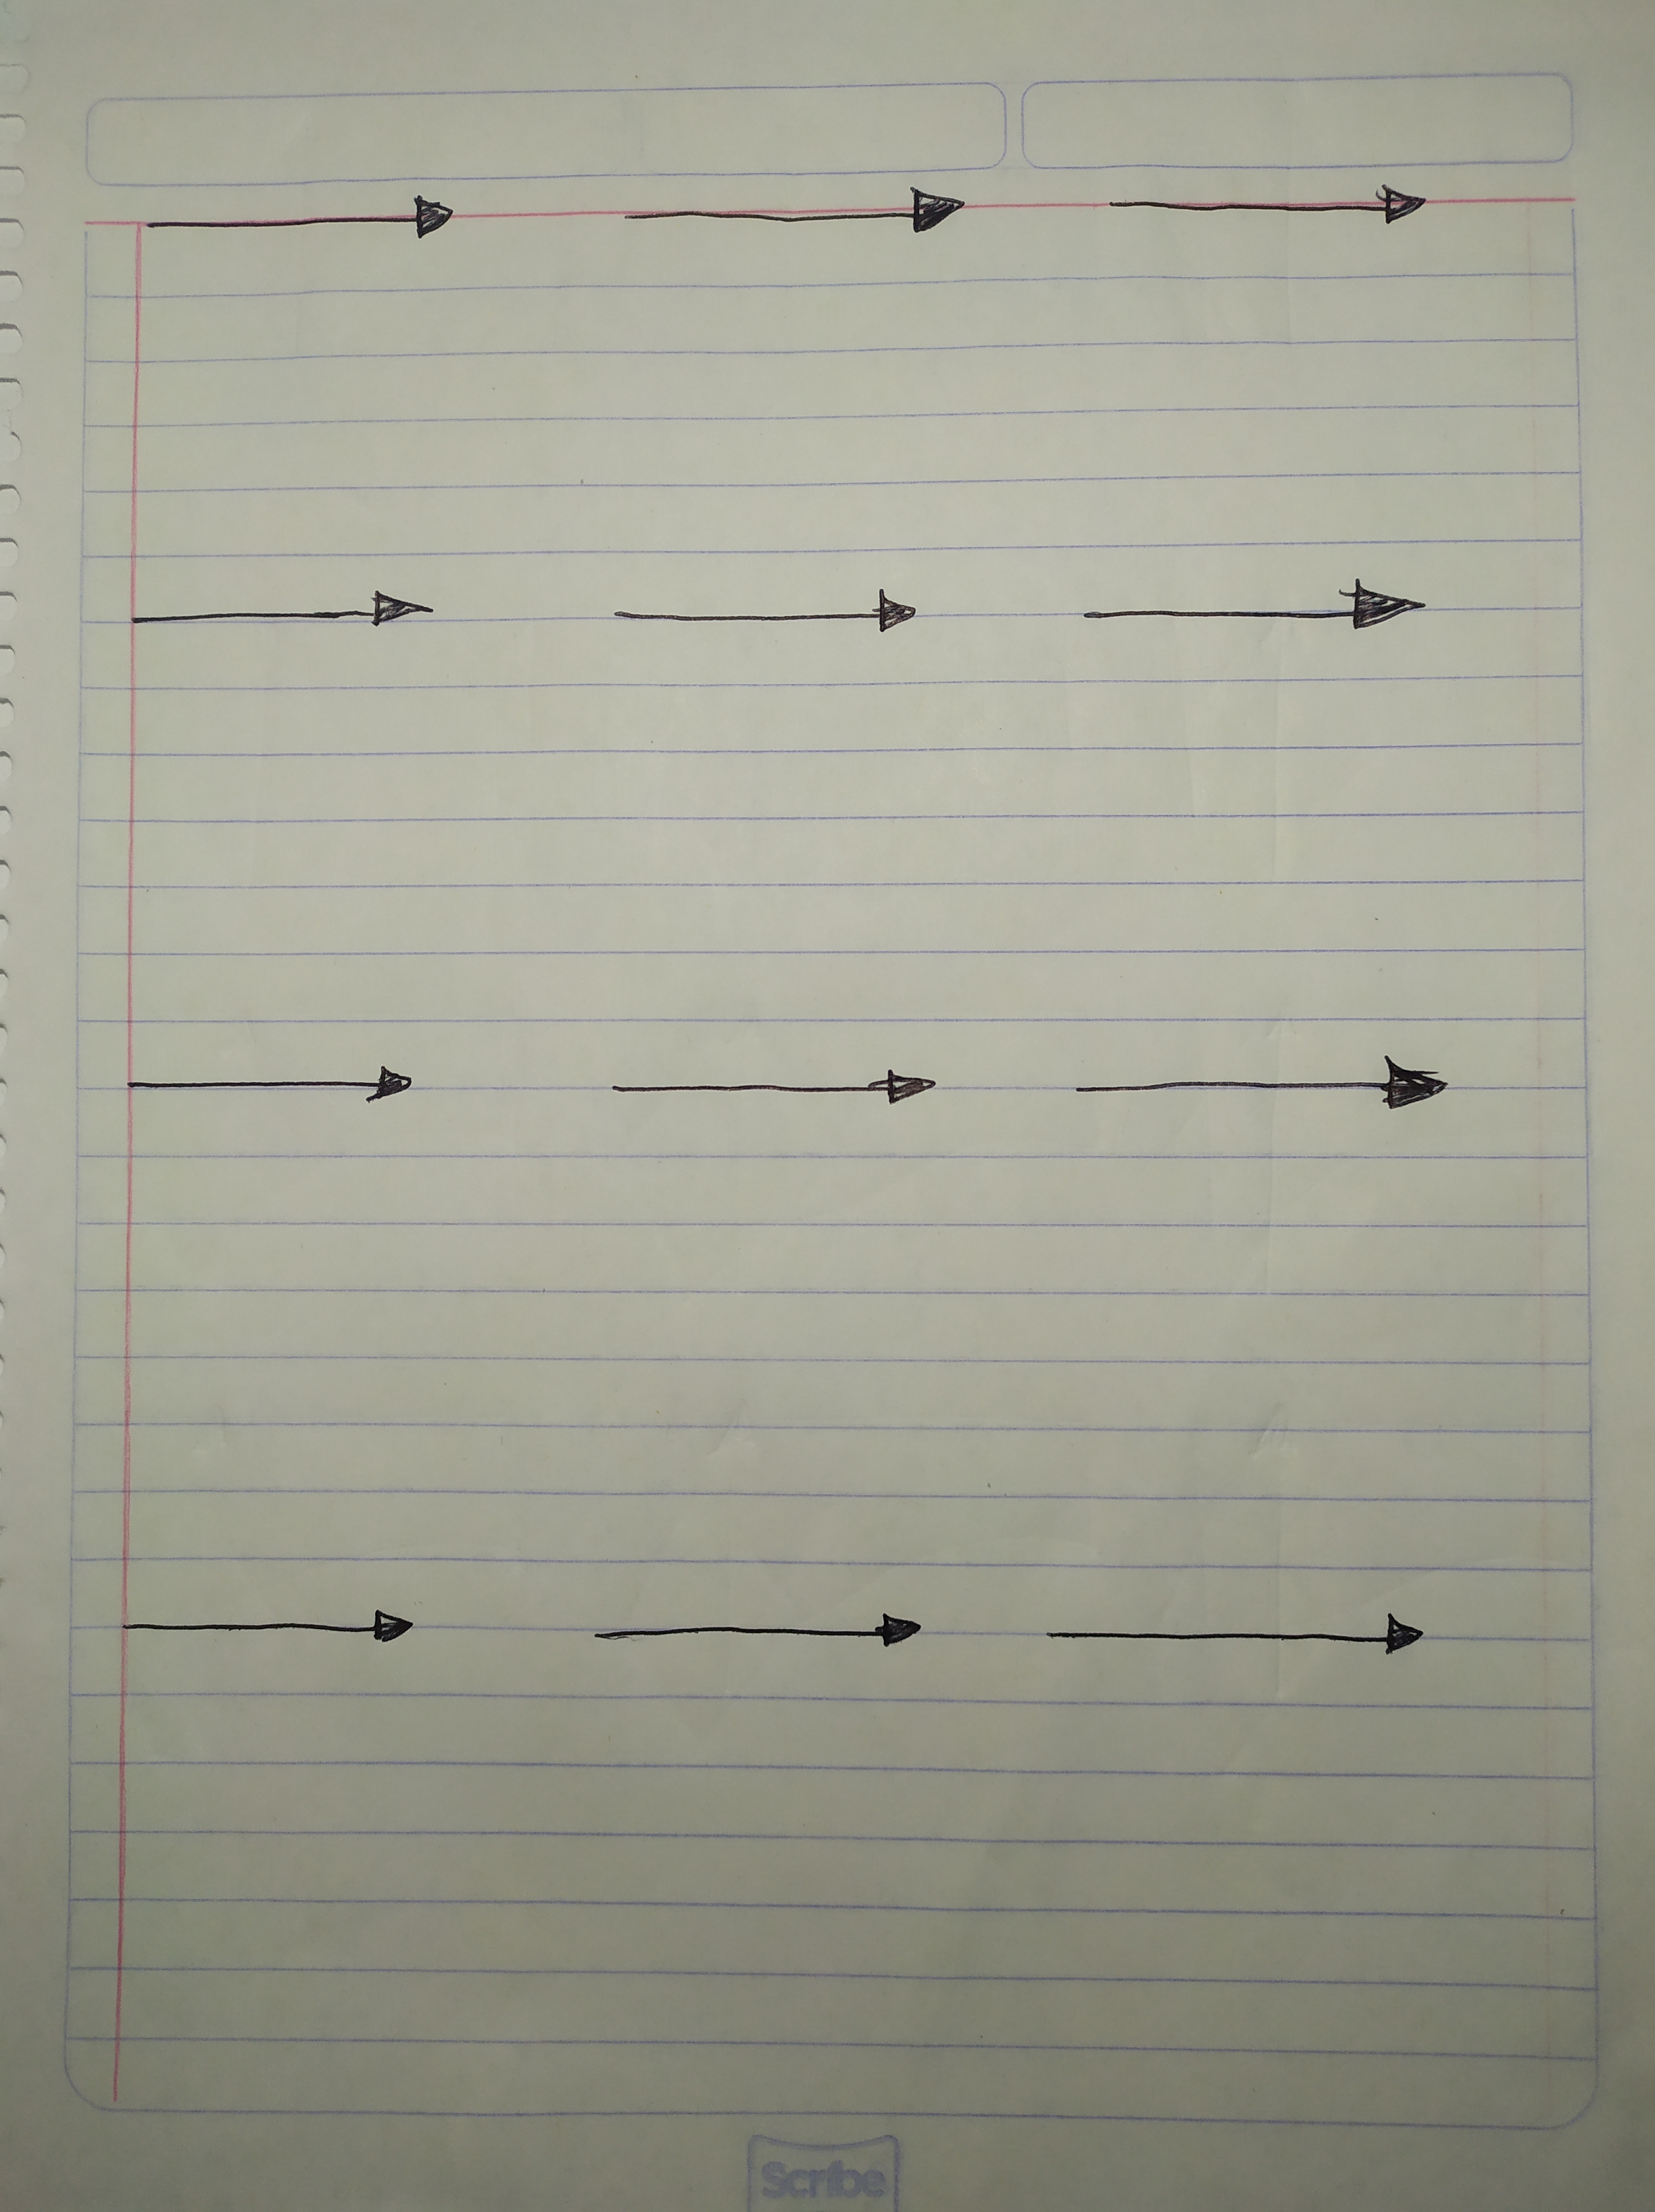arrow_line_right: (1001, 1592, 1452, 1684), (1040, 568, 1439, 660), (568, 1590, 968, 1677), (563, 1048, 967, 1133), (1040, 1051, 1460, 1131), (572, 566, 942, 657), (593, 177, 1000, 254), (1080, 169, 1467, 243), (90, 1046, 445, 1126), (101, 572, 471, 646), (103, 1586, 431, 1668), (118, 182, 469, 257)
